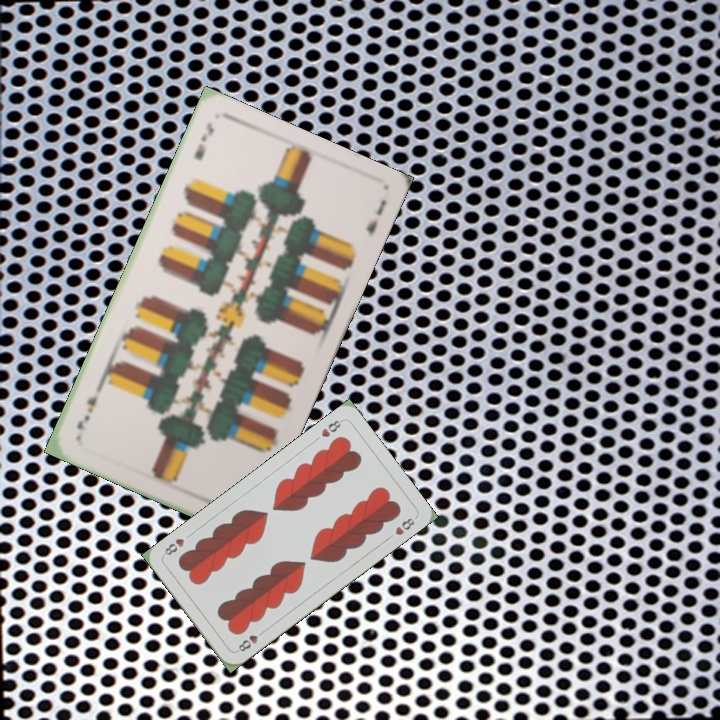E7: (190, 118, 217, 163)
H8: (233, 626, 268, 655), (317, 415, 345, 440)
